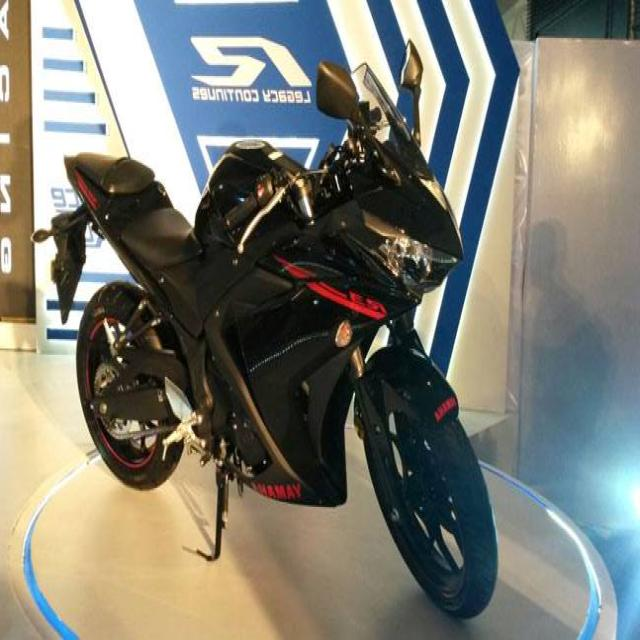motorcycle: (35, 62, 498, 616)
